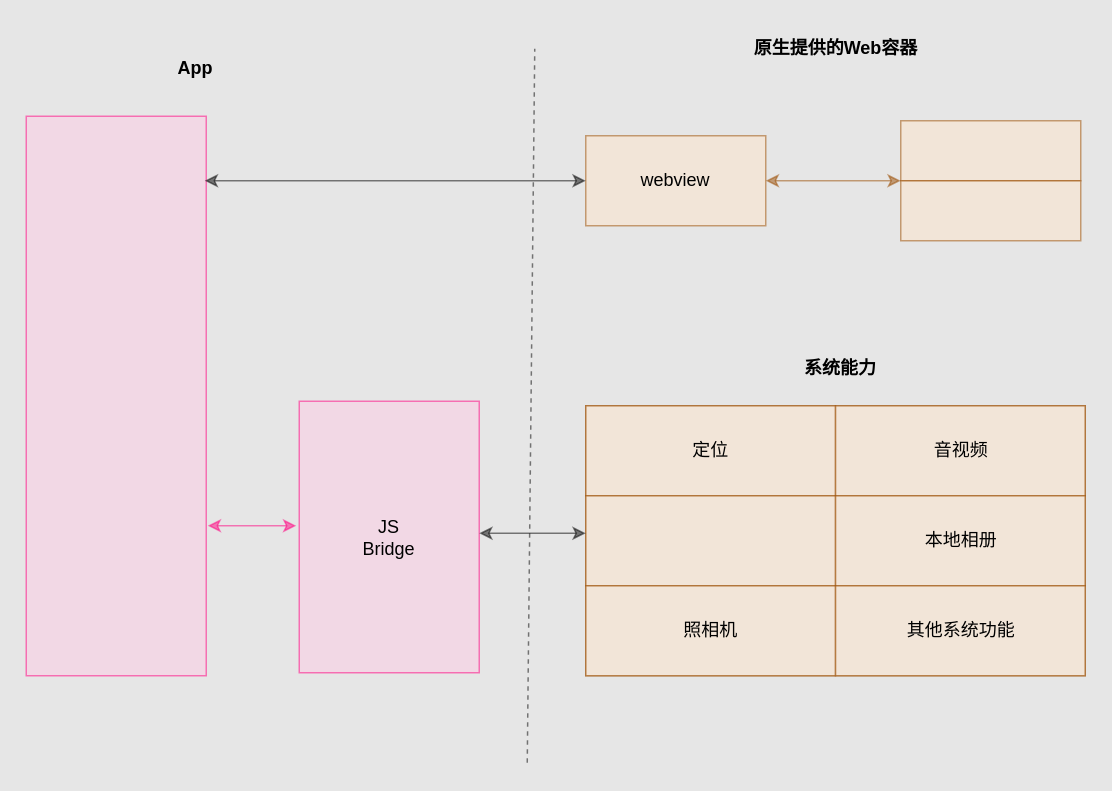
Image size: 1112x791. Some labels were removed from this diagram. Here are the shapes that lost their labels. From the top down, the centre of each, then its label:
(x=990, y=150): 画布
(x=990, y=210): 事件
(x=115, y=395): JavaScript
(x=710, y=540): 传感器
